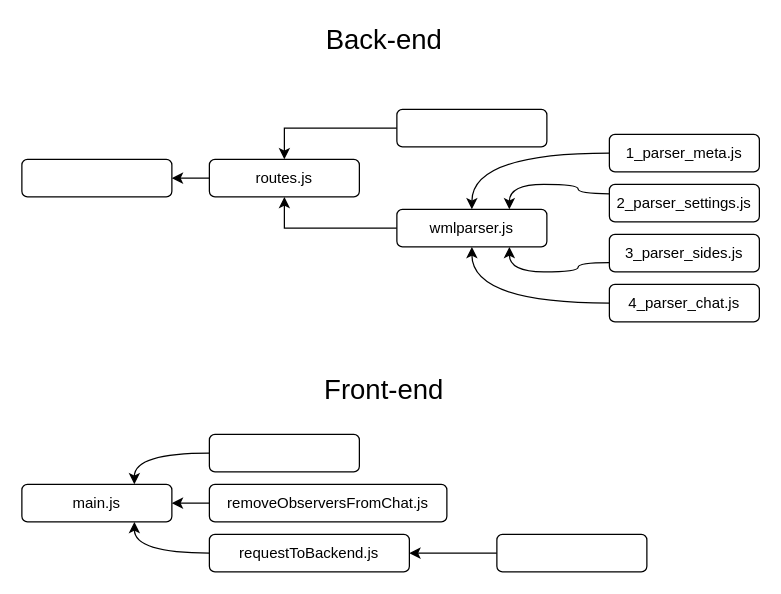
Some shapes in this 781 by 594 pixel diagram are drawn without their labels. The centre of each missing label's shape, as x and y in pixels:
"createHTML.js" goes at (571,552).
"getVersion.js" goes at (283,452).
"index.js" goes at (96,177).
"replayfile.js" goes at (471,127).
